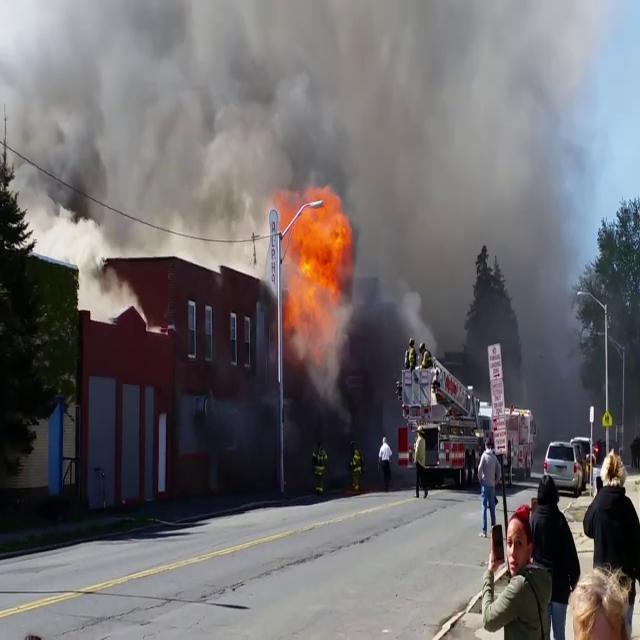Fire: (272, 187, 358, 353)
Smoke: (1, 0, 610, 210)
